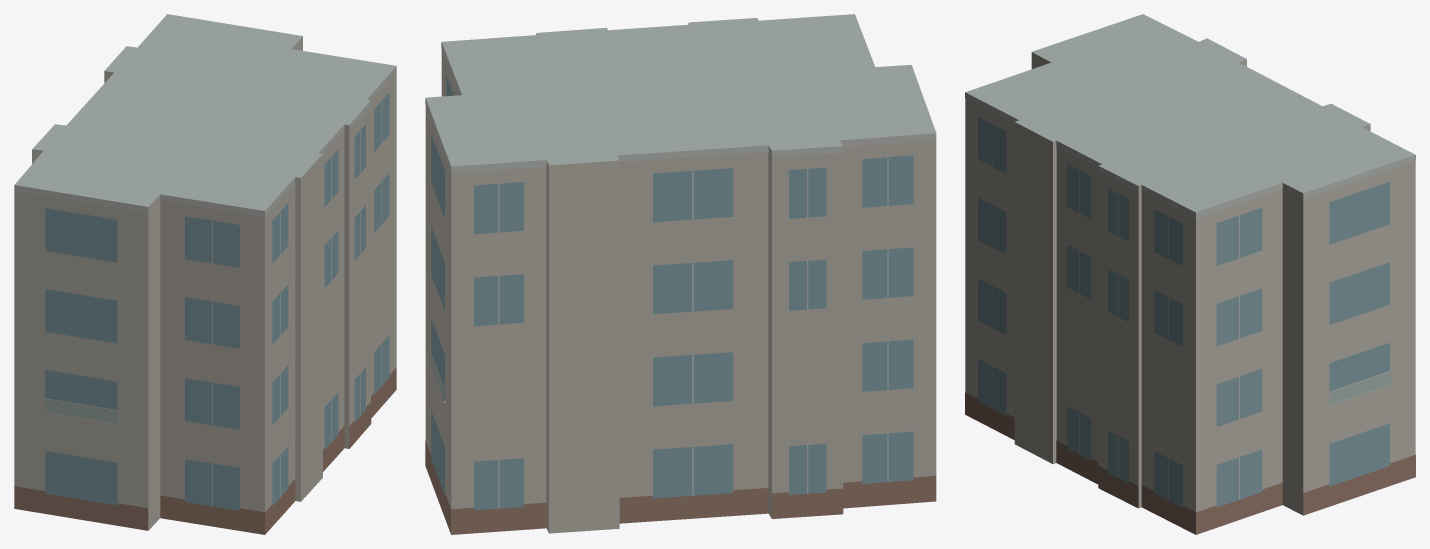
File: survey-upis-32643463.glb
3 renders of one model, left to right at view 1: azimuth 30°, elevation 25°; view 2: azimuth 150°, elevation 25°; view 3: azimuth 270°, elevation 25°, orthographic. The views are drawn at different scales.
Parts seen in each view (by area): view 1: survey-upis-32643463.tmp; view 2: survey-upis-32643463.tmp; view 3: survey-upis-32643463.tmp.
Boxes of the visible parts, x1,y1,x2,y2 form: survey-upis-32643463.tmp: (14, 14, 396, 534); survey-upis-32643463.tmp: (425, 14, 936, 534); survey-upis-32643463.tmp: (965, 14, 1415, 534).
Size of the model in its own units: 17.44 by 13.2 by 16.73.
